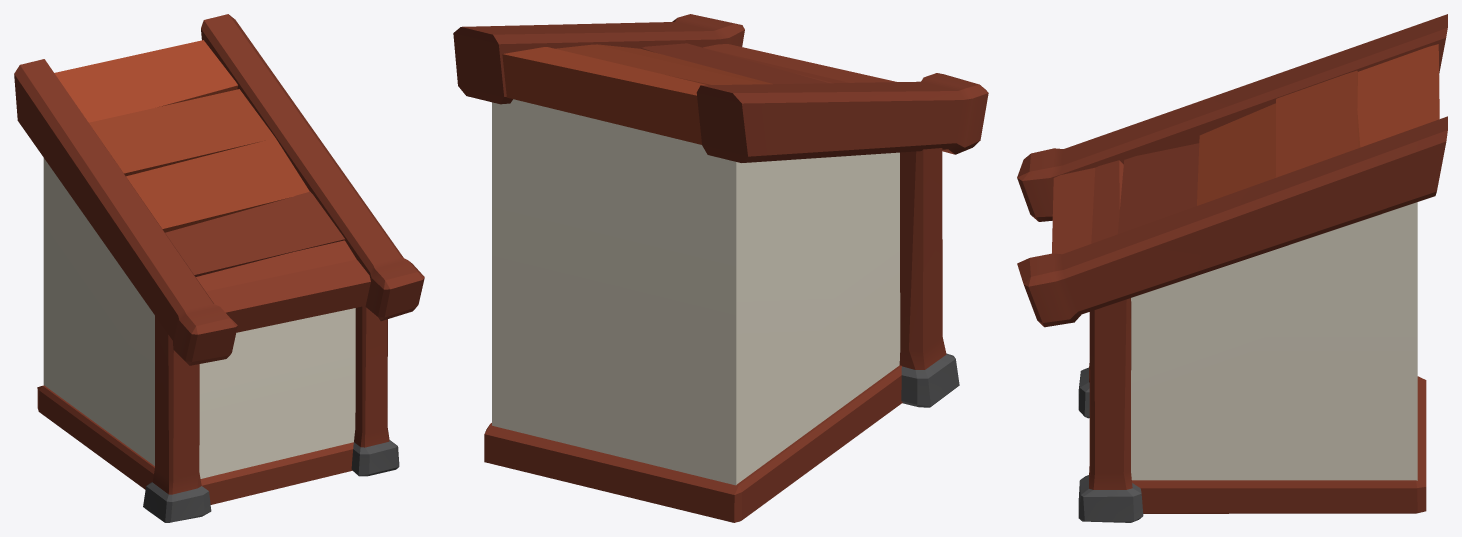
The model's file is House_1Floor_Side_N.fbx.
3 renders of one model, left to right at view 1: azimuth 30°, elevation 25°; view 2: azimuth 150°, elevation 25°; view 3: azimuth 270°, elevation 25°, orthographic. The views are drawn at different scales.
Visible parts, largest first — view 1: House_1Floor_Side_N; view 2: House_1Floor_Side_N; view 3: House_1Floor_Side_N.
Part boxes in pixels (bbox=[...]): House_1Floor_Side_N: bbox=[14, 14, 424, 522]; House_1Floor_Side_N: bbox=[453, 14, 988, 522]; House_1Floor_Side_N: bbox=[1017, 14, 1447, 522].
Bounding box in the file's own units: 217 × 300 × 302.
